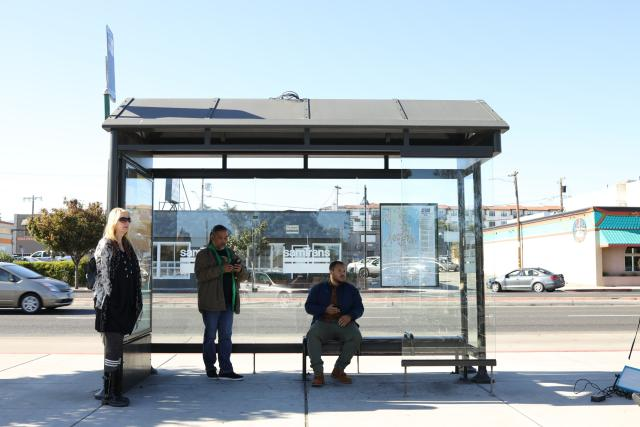Car: (2, 257, 79, 317), (487, 268, 566, 294)
Person: (90, 206, 145, 410), (193, 223, 244, 383), (304, 258, 367, 386)
